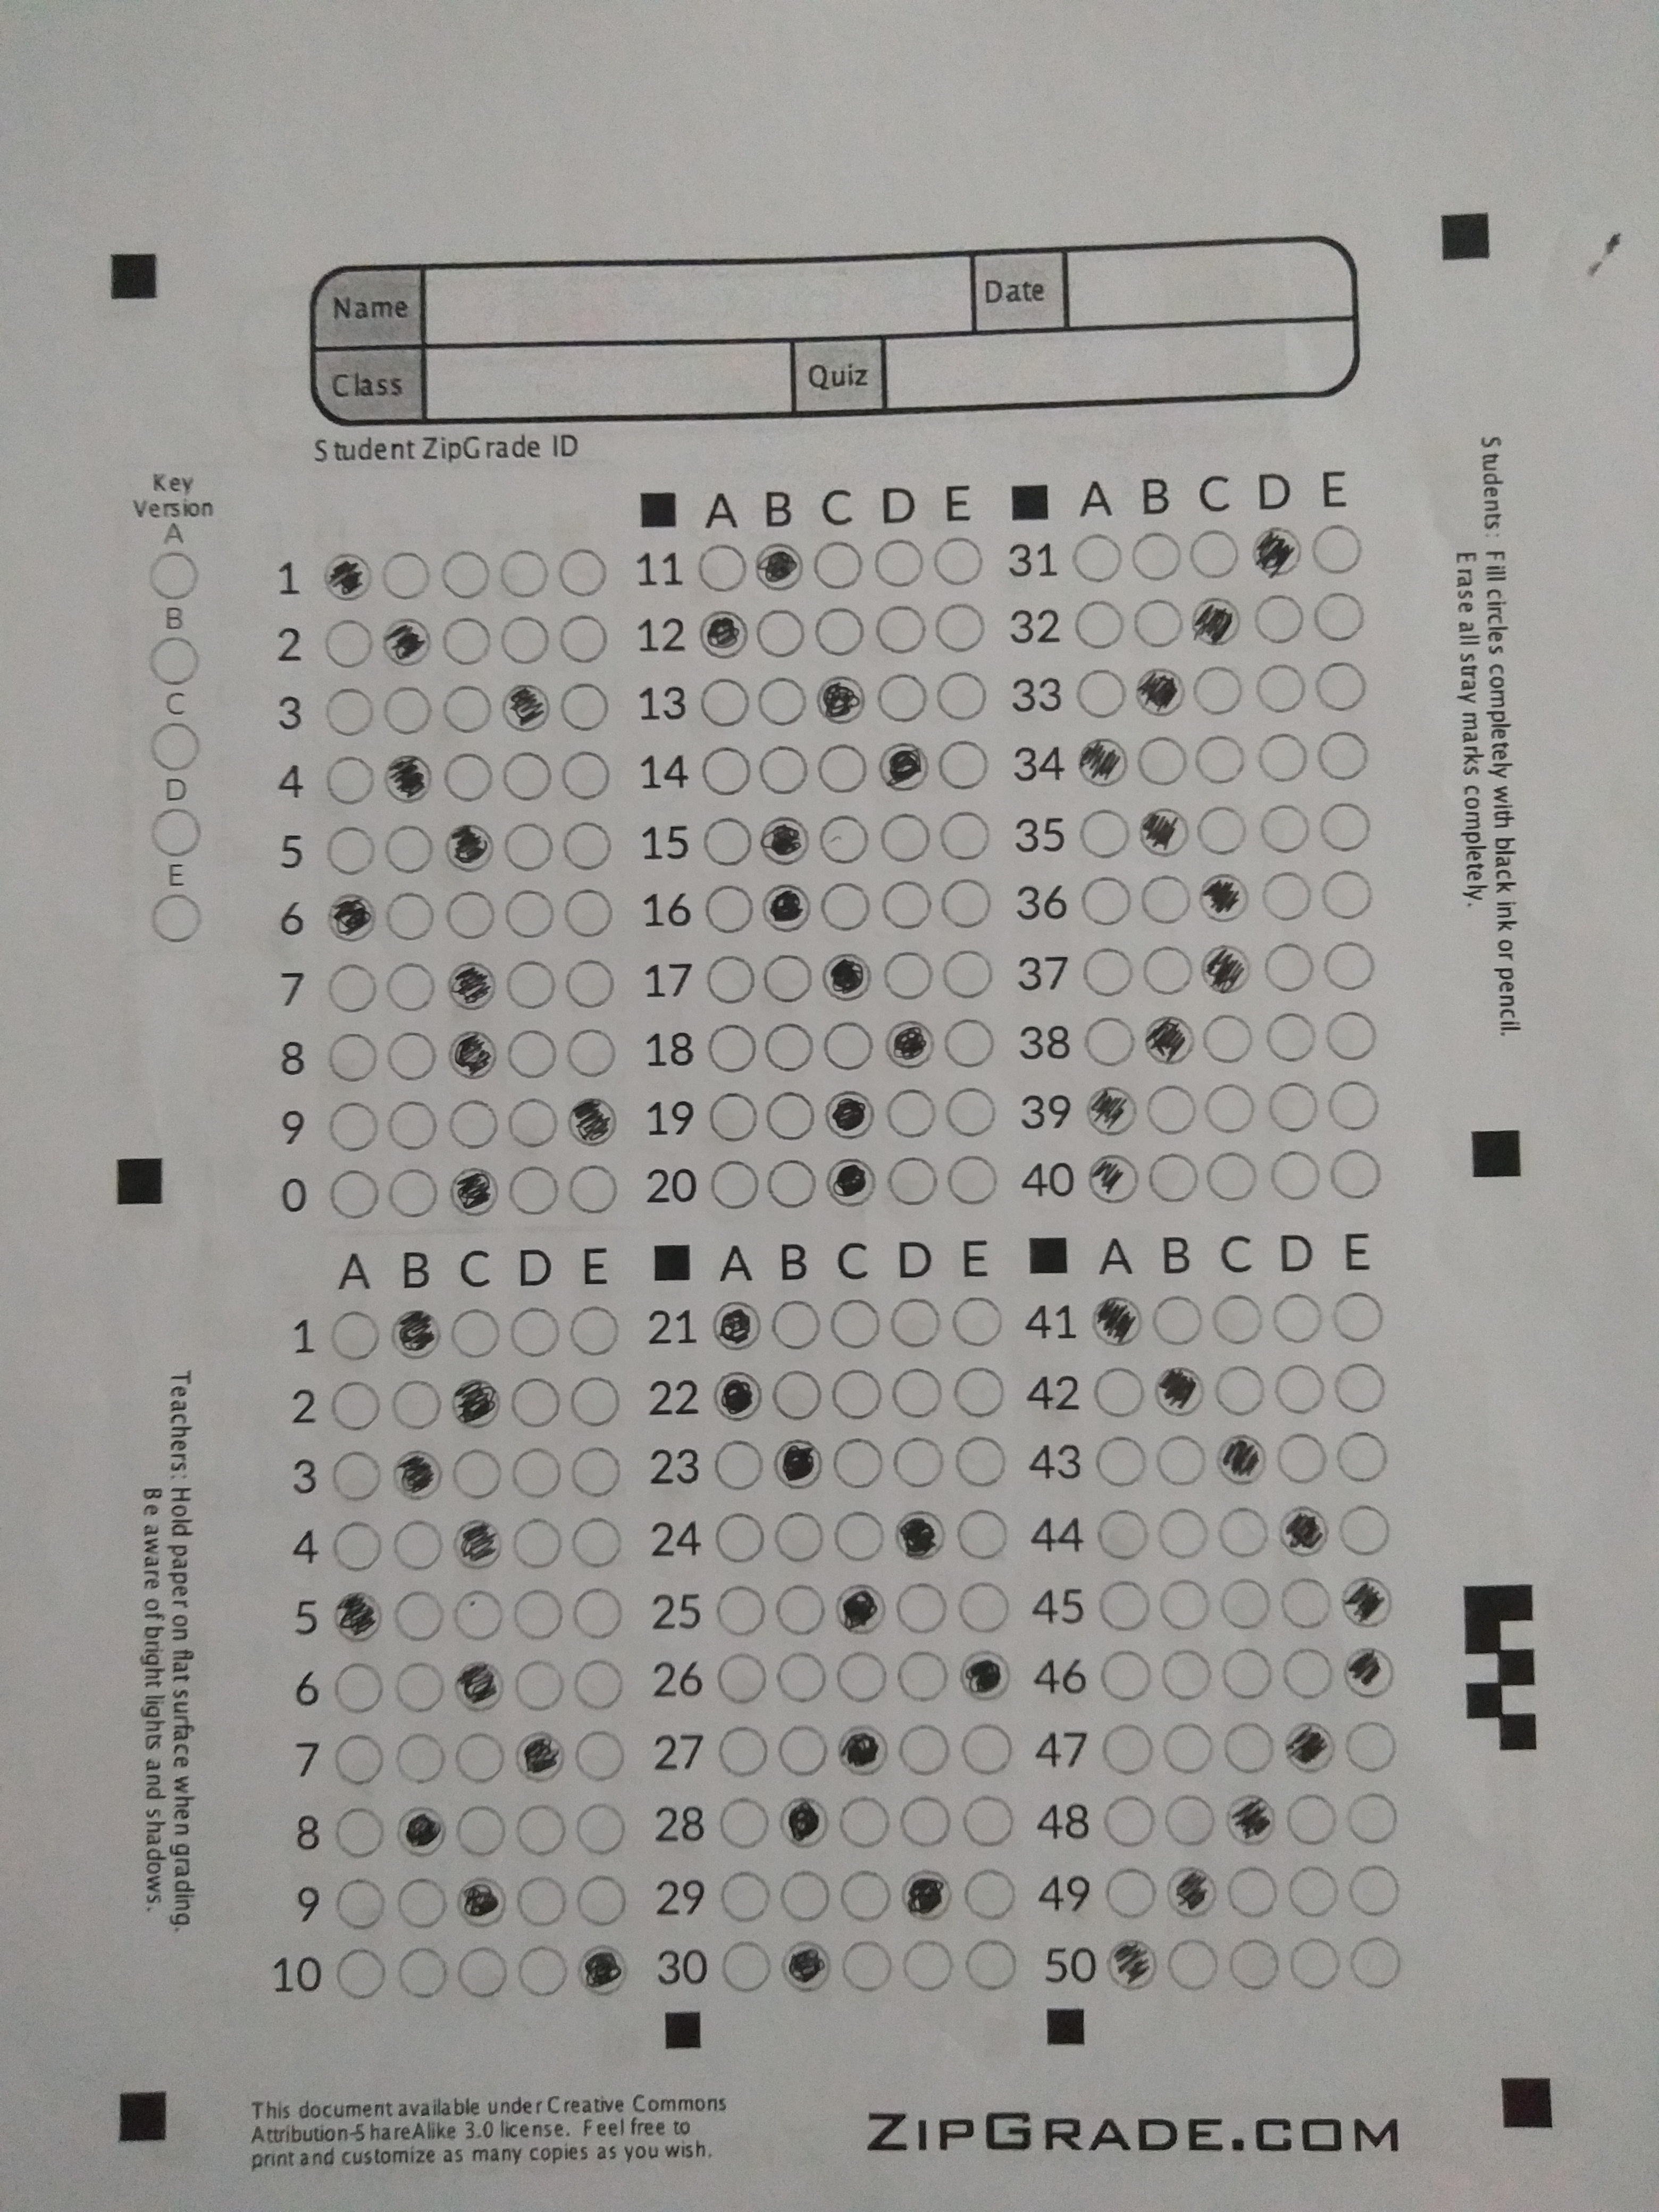not-c: (380, 888, 436, 942), (558, 678, 613, 732), (443, 1097, 498, 1151), (387, 1165, 443, 1219), (694, 540, 749, 594), (934, 808, 990, 862), (877, 876, 932, 930), (1140, 942, 1195, 996), (1134, 733, 1190, 787), (1079, 874, 1134, 928), (329, 1660, 385, 1714), (840, 1939, 896, 1993), (512, 1872, 568, 1926), (392, 1874, 448, 1928), (331, 1946, 387, 2000), (329, 1804, 385, 1858), (714, 1653, 770, 1707), (775, 1723, 831, 1777), (828, 1369, 884, 1423), (770, 1512, 826, 1566), (713, 1437, 769, 1491), (890, 1367, 946, 1421), (1159, 1721, 1215, 1775), (1098, 1580, 1154, 1634), (1349, 1935, 1405, 1989), (1103, 1867, 1159, 1921), (1279, 1575, 1335, 1629), (150, 892, 206, 946), (145, 552, 202, 604), (378, 547, 432, 601), (565, 1160, 619, 1214), (441, 683, 495, 737), (556, 610, 610, 664), (324, 754, 378, 808), (321, 683, 375, 737), (498, 613, 552, 667), (439, 615, 493, 669), (322, 617, 376, 671), (554, 547, 608, 601), (497, 545, 551, 599), (441, 547, 495, 601), (443, 888, 497, 942), (558, 819, 612, 873), (504, 819, 558, 873), (383, 820, 437, 874), (324, 824, 378, 878), (497, 749, 551, 803), (443, 752, 497, 806), (504, 1028, 558, 1082), (385, 1028, 439, 1082), (324, 1029, 378, 1083), (563, 956, 617, 1010), (505, 958, 559, 1012), (385, 958, 439, 1012), (322, 961, 376, 1015), (561, 885, 615, 939), (504, 1097, 558, 1151), (387, 1097, 441, 1151), (324, 1099, 378, 1153), (504, 1162, 558, 1216), (328, 1167, 382, 1221), (1145, 1083, 1199, 1137), (875, 672, 929, 726), (817, 813, 871, 867), (816, 744, 870, 798), (762, 948, 816, 1001), (756, 744, 810, 798), (755, 676, 809, 730), (871, 603, 925, 657), (812, 603, 866, 657), (702, 881, 756, 935), (701, 813, 755, 867), (699, 744, 753, 798), (697, 674, 751, 728), (755, 606, 809, 660), (931, 535, 985, 589), (871, 536, 925, 590), (810, 540, 864, 594), (936, 874, 990, 928), (932, 740, 986, 794), (934, 669, 988, 723), (934, 601, 988, 655), (880, 949, 934, 1003), (878, 810, 932, 864), (1145, 1150, 1199, 1204), (946, 1151, 1000, 1205), (943, 1083, 997, 1137), (941, 1017, 995, 1071), (885, 1151, 939, 1205), (884, 1085, 938, 1139), (823, 1017, 877, 1071), (765, 1155, 819, 1209), (763, 1019, 817, 1073), (706, 1157, 760, 1211), (704, 1090, 758, 1144), (941, 946, 995, 1000), (1150, 1292, 1204, 1346), (1256, 732, 1310, 786), (1255, 660, 1309, 714), (1253, 592, 1307, 646), (1194, 803, 1248, 857), (1195, 732, 1249, 786), (1190, 660, 1244, 714), (1188, 526, 1243, 580), (1138, 871, 1192, 925), (1131, 529, 1185, 583), (1082, 944, 1136, 998), (1073, 665, 1127, 719), (1073, 596, 1127, 650), (1072, 529, 1126, 583), (1319, 799, 1373, 853), (1258, 803, 1312, 857), (1321, 869, 1375, 923), (1260, 869, 1314, 923), (1321, 939, 1375, 993), (1262, 941, 1316, 995), (1316, 730, 1370, 784), (1310, 590, 1364, 644), (1309, 523, 1363, 577), (1328, 1144, 1382, 1198), (1269, 1148, 1323, 1202), (1326, 1076, 1380, 1130), (1265, 1076, 1319, 1130), (1323, 1008, 1377, 1062), (1262, 1008, 1316, 1062), (1201, 1150, 1255, 1204), (1201, 1078, 1255, 1132), (1199, 1014, 1253, 1068), (1082, 1014, 1136, 1068), (887, 1296, 941, 1350), (504, 1306, 558, 1360), (448, 1306, 502, 1360), (328, 1310, 382, 1364), (512, 1587, 566, 1641), (511, 1519, 565, 1573), (453, 1731, 507, 1785), (455, 1587, 509, 1641), (392, 1731, 446, 1785), (392, 1662, 446, 1716), (390, 1588, 444, 1642), (389, 1517, 443, 1571), (566, 1444, 620, 1498), (511, 1446, 565, 1500), (451, 1446, 505, 1500), (568, 1372, 622, 1426), (507, 1376, 561, 1430), (389, 1378, 443, 1432), (333, 1731, 387, 1785), (329, 1451, 383, 1505), (326, 1378, 380, 1432), (566, 1305, 620, 1359), (720, 1940, 774, 1994), (573, 1801, 627, 1855), (514, 1944, 568, 1998), (512, 1803, 566, 1857), (453, 1804, 507, 1858), (333, 1878, 387, 1932), (572, 1726, 626, 1780), (572, 1655, 626, 1709), (572, 1585, 626, 1639), (568, 1517, 622, 1571), (775, 1649, 829, 1703), (960, 1724, 1014, 1778), (897, 1723, 951, 1777), (960, 1792, 1014, 1846), (899, 1792, 953, 1846), (838, 1796, 892, 1850), (718, 1796, 772, 1850), (964, 1867, 1018, 1921), (838, 1867, 892, 1921), (779, 1869, 833, 1923), (718, 1869, 772, 1923), (965, 1937, 1019, 1991), (901, 1937, 955, 1991), (953, 1433, 1007, 1487), (894, 1435, 948, 1489), (957, 1507, 1011, 1561), (957, 1578, 1011, 1632), (829, 1435, 884, 1489), (833, 1508, 887, 1562), (714, 1510, 769, 1564), (770, 1366, 824, 1420), (770, 1296, 824, 1350), (713, 1581, 767, 1635), (896, 1648, 950, 1702), (835, 1649, 889, 1703), (950, 1294, 1004, 1348), (951, 1364, 1006, 1418), (1347, 1864, 1401, 1918), (1338, 1503, 1392, 1557), (1335, 1430, 1389, 1484), (1274, 1432, 1328, 1486), (1333, 1360, 1387, 1414), (1272, 1362, 1326, 1416), (1223, 1719, 1277, 1773), (1270, 1292, 1324, 1346), (1220, 1644, 1274, 1698), (1218, 1578, 1272, 1632), (1218, 1505, 1272, 1559), (1215, 1364, 1269, 1418), (1211, 1292, 1265, 1346), (1161, 1646, 1215, 1700), (1159, 1576, 1213, 1630), (1157, 1507, 1211, 1561), (1155, 1435, 1209, 1489), (1103, 1792, 1157, 1846), (1101, 1721, 1155, 1775), (1098, 1649, 1152, 1703), (1096, 1507, 1150, 1561), (1094, 1433, 1148, 1487), (1091, 1366, 1145, 1420), (1166, 1937, 1220, 1991), (1288, 1864, 1342, 1918), (1227, 1865, 1281, 1919), (1283, 1644, 1337, 1698), (1344, 1719, 1398, 1773), (763, 1089, 819, 1141), (457, 1944, 512, 1996), (1161, 1792, 1216, 1844), (148, 636, 204, 688), (378, 685, 432, 737), (500, 888, 554, 941), (559, 749, 613, 801), (563, 1026, 617, 1078), (817, 880, 871, 932), (704, 951, 758, 1003), (706, 1021, 760, 1073), (1131, 596, 1185, 648), (1077, 810, 1131, 862), (1314, 658, 1368, 711), (329, 1521, 383, 1573), (573, 1874, 627, 1926), (396, 1947, 450, 2000), (511, 1660, 565, 1712), (718, 1726, 772, 1778), (894, 1583, 948, 1635), (828, 1298, 882, 1350), (772, 1583, 826, 1635), (1330, 1291, 1384, 1343), (1290, 1935, 1344, 1987), (1229, 1937, 1283, 1989), (1347, 1791, 1401, 1843), (1284, 1792, 1338, 1844), (148, 808, 206, 857), (148, 723, 202, 772)
taken-c: (1164, 1862, 1220, 1919), (1340, 1644, 1398, 1700), (814, 672, 870, 728), (1143, 1012, 1199, 1068), (390, 1446, 446, 1501), (836, 1723, 892, 1778), (958, 1648, 1014, 1703), (1279, 1719, 1335, 1775), (575, 1940, 629, 1998), (380, 615, 436, 669), (1195, 871, 1251, 925), (1199, 941, 1253, 996), (394, 1804, 450, 1858), (772, 1435, 826, 1491), (1222, 1794, 1277, 1848), (901, 1865, 953, 1923), (1274, 1505, 1331, 1557), (756, 813, 810, 867), (877, 738, 931, 792), (512, 1731, 566, 1785), (779, 1940, 833, 1994), (777, 1794, 831, 1848), (833, 1583, 887, 1637), (382, 752, 437, 805), (1073, 737, 1129, 789), (894, 1507, 946, 1562), (1089, 1296, 1145, 1348), (444, 820, 497, 874), (824, 1089, 878, 1141), (884, 1019, 938, 1071), (760, 881, 814, 934), (755, 540, 807, 594), (1086, 1087, 1140, 1139), (450, 1376, 504, 1428), (455, 1876, 509, 1928), (709, 1299, 762, 1353), (1107, 1937, 1159, 1991), (1340, 1576, 1394, 1629), (1216, 1433, 1270, 1486), (694, 608, 749, 658), (1188, 597, 1244, 648), (451, 1660, 504, 1712), (713, 1369, 765, 1421), (324, 894, 378, 944), (444, 958, 495, 1012), (824, 1157, 878, 1207), (1136, 806, 1190, 857), (1086, 1153, 1140, 1204), (451, 1519, 505, 1569), (319, 552, 375, 601), (500, 681, 551, 733), (448, 1028, 498, 1080), (566, 1094, 617, 1146), (448, 1165, 500, 1216), (821, 951, 873, 1001), (1134, 667, 1187, 718), (331, 1592, 383, 1642), (1154, 1366, 1204, 1418), (389, 1310, 443, 1359), (1251, 526, 1302, 577)
